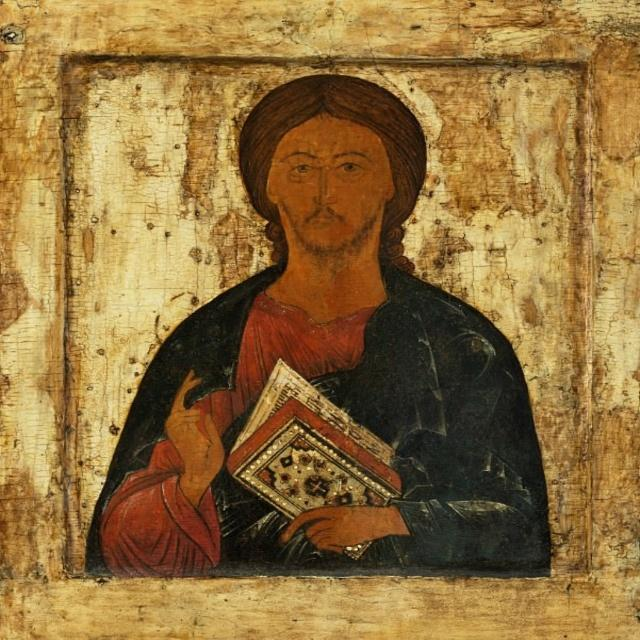book: (229, 351, 406, 554)
christ: (92, 57, 570, 589)
christ_face: (239, 79, 421, 249)
christ_hand: (153, 369, 230, 536)
